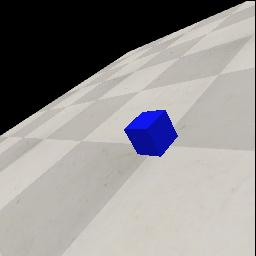box: (124, 110, 178, 157)
